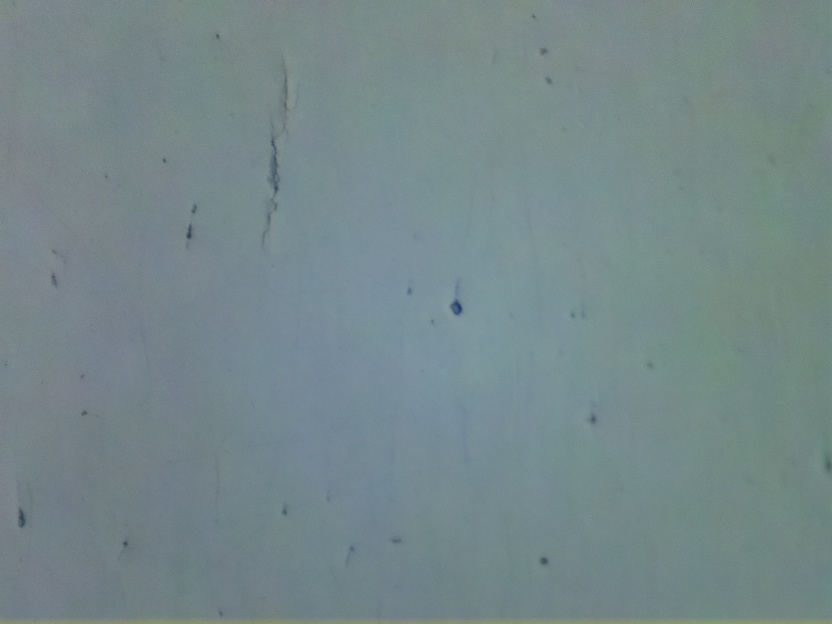crack: (258, 130, 284, 243), (278, 64, 295, 124)
